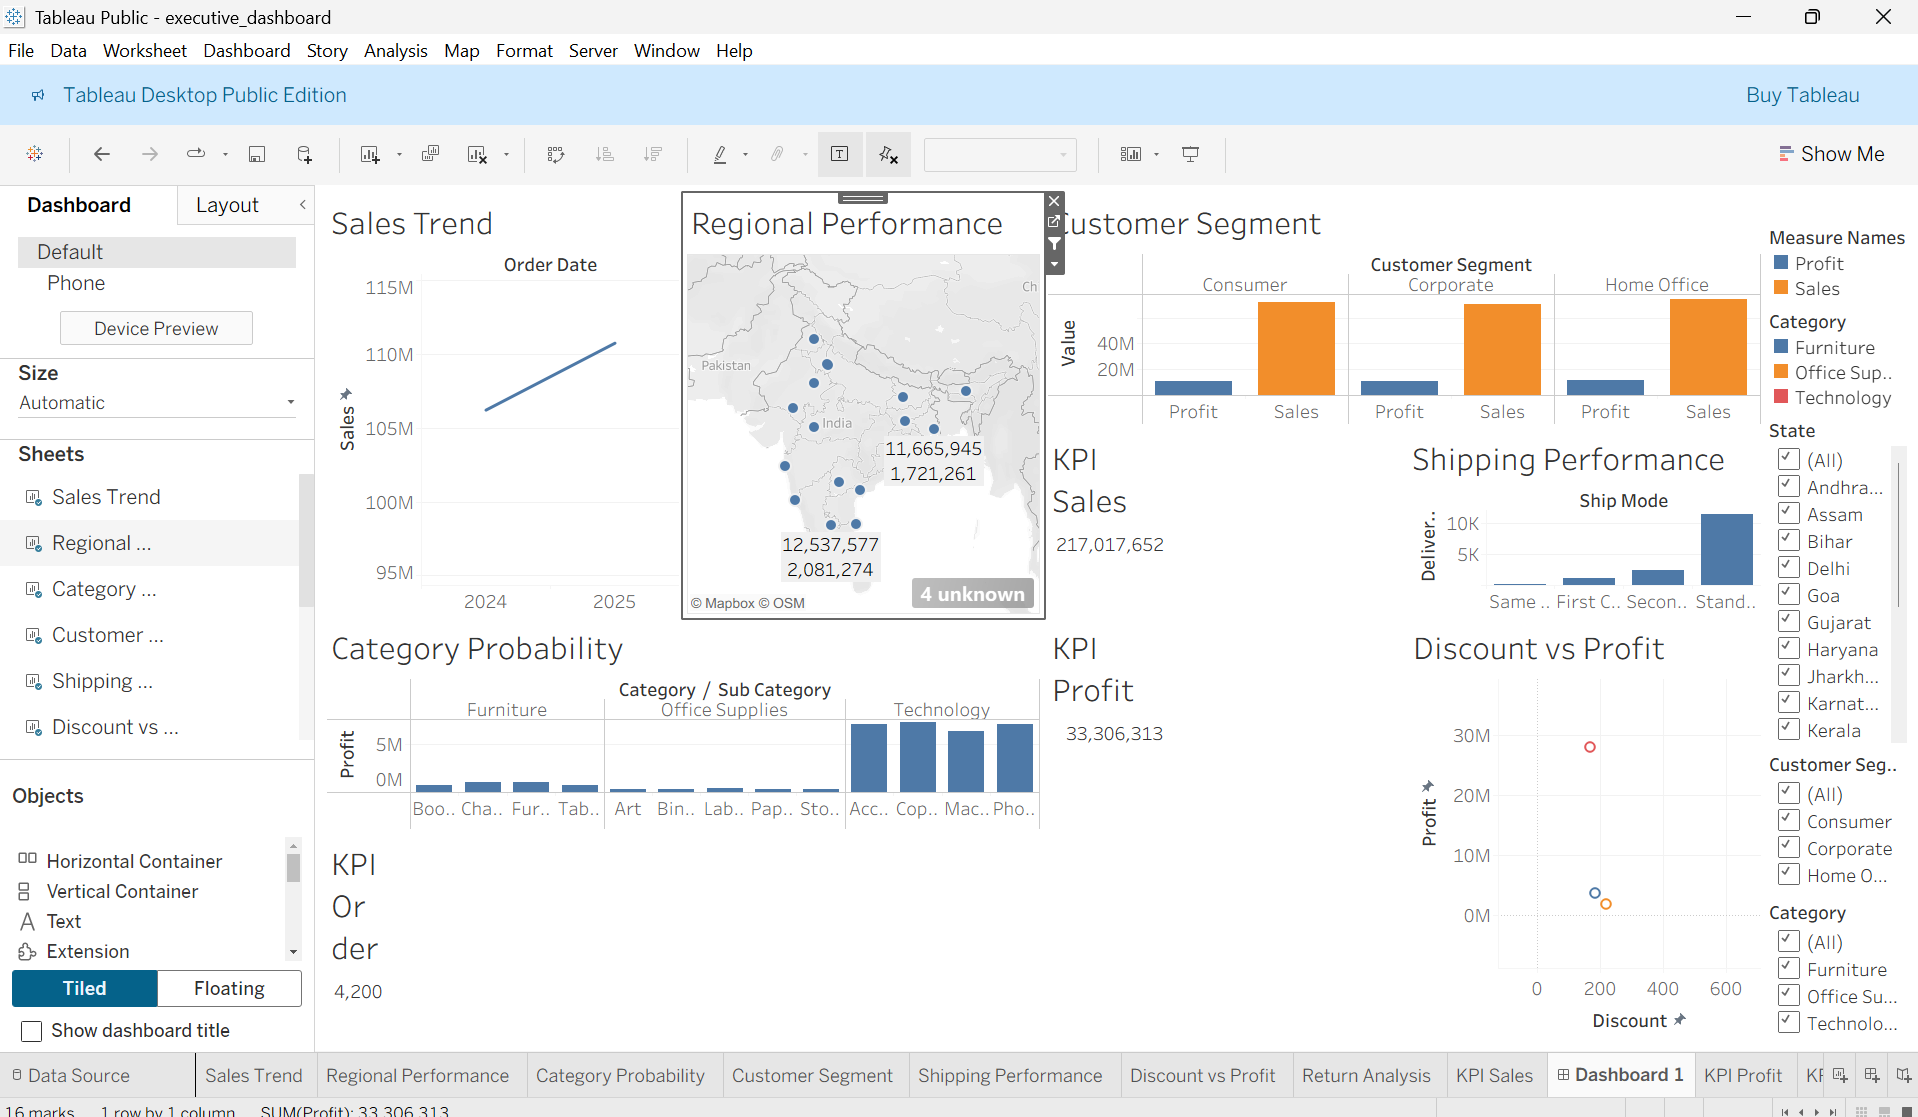

This screenshot's page, from the dashboard's own definition file:
{"tool":"tableau","page":{"name":"Dashboard 1","canvas":[1000,1000],"units":"permille","ordinal":0},"visuals":[{"type":"worksheet","title":"Sales Trend","mark":"Automatic","rows":["sales"],"cols":["order_date"],"box":[5,9.2,224.7,490.8]},{"type":"worksheet","title":"Regional Performance","mark":"Automatic","box":[229.7,9.2,224.8,490.8]},{"type":"worksheet","title":"Customer Segment","mark":"Automatic","cols":["customer_segment"],"box":[454.5,9.2,449.5,272.5]},{"type":"legend","title":"Regional Performance","param":"[federated.1tvo9u40pz0e9a16b8jkf14dkf2k].[State (group)]","box":[904,9.2,91,31.2]},{"type":"legend","title":"Customer Segment","param":"[federated.1tvo9u40pz0e9a16b8jkf14dkf2k].[:Measure Names]","box":[904,40.4,91,97]},{"type":"legend","title":"Discount vs Profit","param":"[federated.1tvo9u40pz0e9a16b8jkf14dkf2k].[none:category:nk]","box":[904,137.4,91,125.9]},{"type":"filter","title":"Regional Performance","param":"[federated.1tvo9u40pz0e9a16b8jkf14dkf2k].[none:state:nk]","box":[904,263.3,91,385.7]},{"type":"worksheet","title":"KPI Sales","mark":"Automatic","box":[454.5,281.8,224.8,218.2]},{"type":"worksheet","title":"Shipping Performance","mark":"Automatic","rows":["delivery_days"],"cols":["ship_mode"],"box":[679.2,281.8,224.8,218.2]},{"type":"worksheet","title":"Category Probability","mark":"Automatic","rows":["profit"],"cols":["category","sub_category"],"box":[5,500,449.5,249.4]},{"type":"worksheet","title":"KPI Profit","mark":"Automatic","box":[454.5,500,224.8,490.8]},{"type":"worksheet","title":"Discount vs Profit","mark":"Automatic","rows":["profit"],"cols":["discount"],"box":[679.2,500,224.8,490.8]},{"type":"filter","title":"Customer Segment","param":"[federated.1tvo9u40pz0e9a16b8jkf14dkf2k].[none:customer_segment:nk]","box":[904,649,91,170.9]},{"type":"worksheet","title":"KPI Orders","mark":"Automatic","box":[5,749.4,449.5,241.3]},{"type":"filter","title":"Category Probability","param":"[federated.1tvo9u40pz0e9a16b8jkf14dkf2k].[none:category:nk]","box":[904,819.9,91,170.9]}]}

Visuals, with their boxes on the dashboard's canvas, which has no fixed pixel size, in thousandths of its width and height (x1, y1, x2, y2). These are canvas units, not pixel positions in the 1918x1117 screenshot, which may show the page scaled, cropped or inside an application window:
"Sales Trend" worksheet: rect(5, 9, 230, 500)
"Regional Performance" worksheet: rect(230, 9, 454, 500)
"Customer Segment" worksheet: rect(454, 9, 904, 282)
"Regional Performance" legend: rect(904, 9, 995, 40)
"Customer Segment" legend: rect(904, 40, 995, 137)
"Discount vs Profit" legend: rect(904, 137, 995, 263)
"Regional Performance" filter: rect(904, 263, 995, 649)
"KPI Sales" worksheet: rect(454, 282, 679, 500)
"Shipping Performance" worksheet: rect(679, 282, 904, 500)
"Category Probability" worksheet: rect(5, 500, 454, 749)
"KPI Profit" worksheet: rect(454, 500, 679, 991)
"Discount vs Profit" worksheet: rect(679, 500, 904, 991)
"Customer Segment" filter: rect(904, 649, 995, 820)
"KPI Orders" worksheet: rect(5, 749, 454, 991)
"Category Probability" filter: rect(904, 820, 995, 991)
